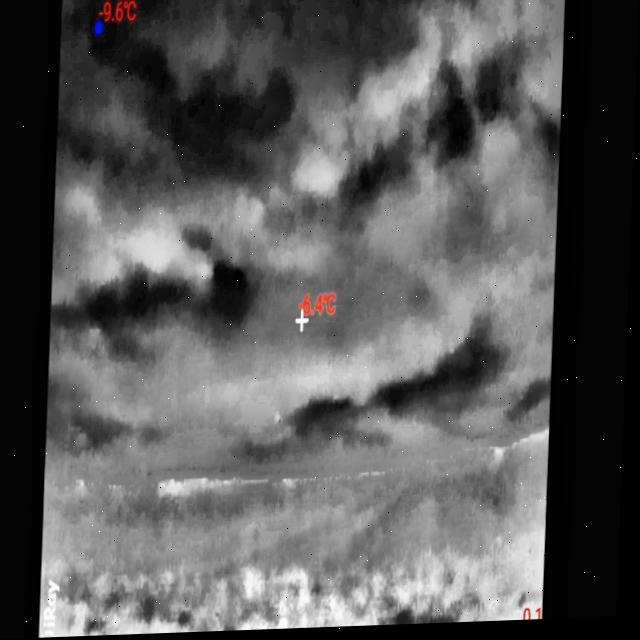drone: (278, 414, 285, 426)
